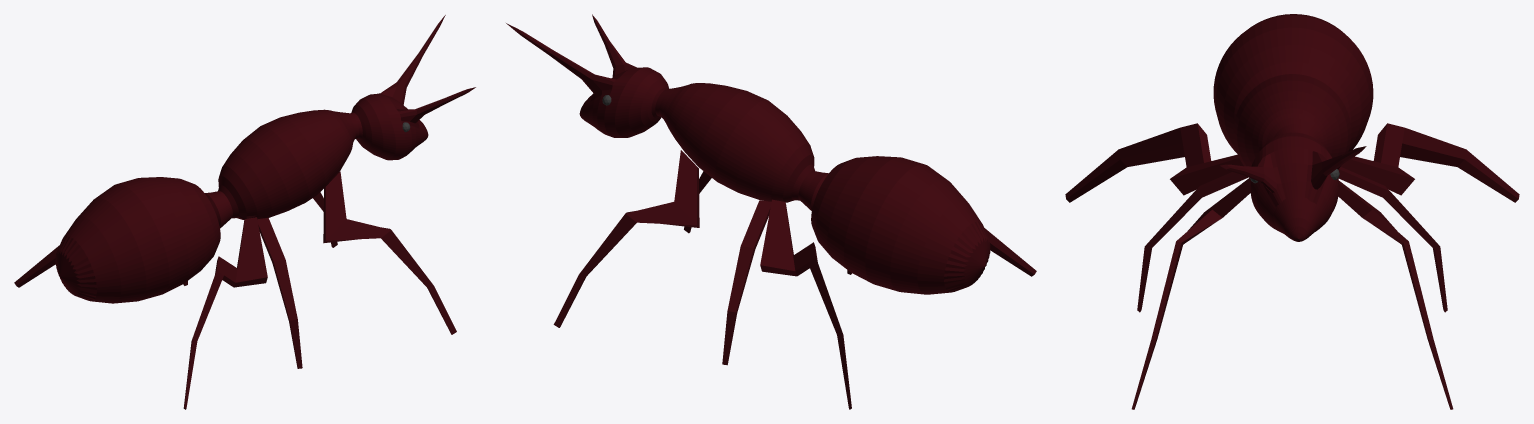
Rendered from ant1.glb.
The picture shows the model from 3 angles, left to right: view 1: azimuth 30°, elevation 25°; view 2: azimuth 150°, elevation 25°; view 3: azimuth 270°, elevation 25°; orthographic projection. The views are drawn at different scales.
Visible parts, largest first — view 1: Cylinder_2, Cylinder.003_5, Cylinder.001_3, Cylinder.002_4; view 2: Cylinder_2, Cylinder.003_5, Cylinder.001_3, Cylinder.002_4; view 3: Cylinder_2, Cylinder.003_5, Cylinder.001_3, Cylinder.002_4.
Boxes of the visible parts, left/top/right/bottom form: Cylinder_2: left=55, top=15, right=475, bottom=303; Cylinder.003_5: left=14, top=217, right=267, bottom=409; Cylinder.001_3: left=313, top=171, right=456, bottom=334; Cylinder.002_4: left=183, top=217, right=302, bottom=368; Cylinder_2: left=506, top=14, right=990, bottom=294; Cylinder.003_5: left=760, top=199, right=1036, bottom=409; Cylinder.001_3: left=553, top=150, right=711, bottom=327; Cylinder.002_4: left=722, top=200, right=851, bottom=365; Cylinder_2: left=1213, top=14, right=1373, bottom=241; Cylinder.003_5: left=1065, top=123, right=1519, bottom=202; Cylinder.001_3: left=1131, top=178, right=1453, bottom=409; Cylinder.002_4: left=1137, top=166, right=1447, bottom=312.
Bounding box in the file's own units: 3.91 × 2.15 × 2.79.
